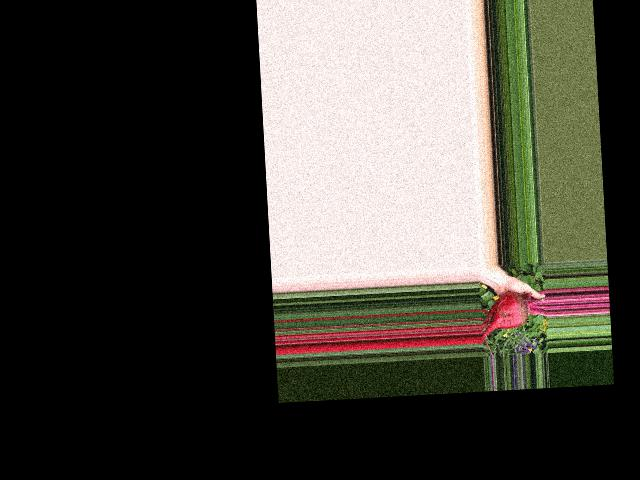beet: (479, 290, 548, 342)
